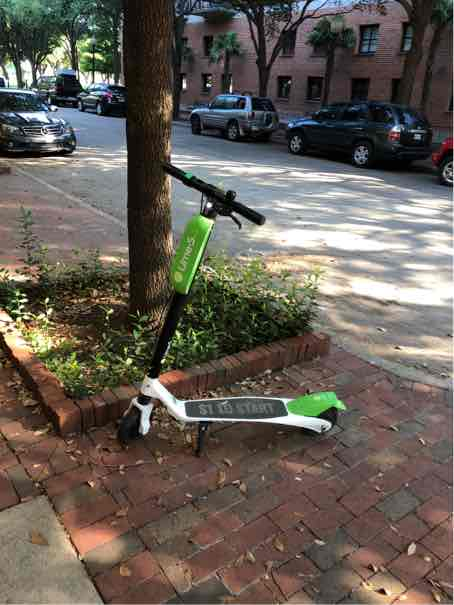scooter: (118, 158, 340, 457)
